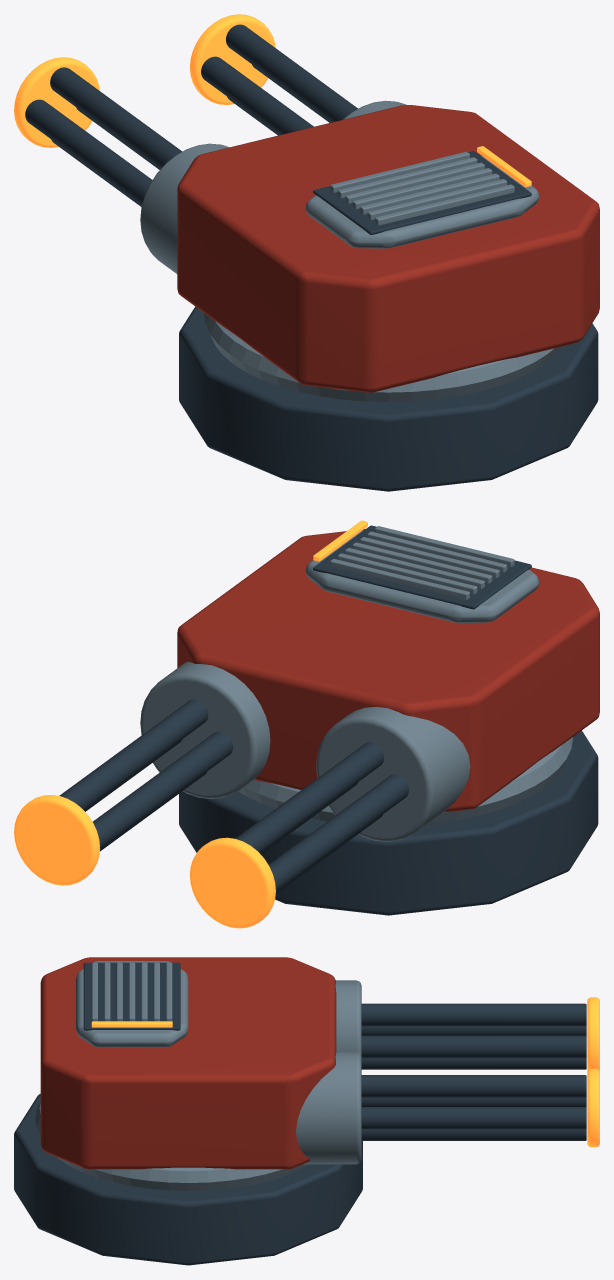
The model's file is SiegeTurret.fbx.
3 renders of one model, top to bottom at view 1: azimuth 30°, elevation 25°; view 2: azimuth 150°, elevation 25°; view 3: azimuth 270°, elevation 25°, orthographic. The views are drawn at different scales.
Visible parts, largest first — view 1: Turret armor.002, Armored rotating base.004, Bearing race.004, Inset service armor.318, Autocannon barrel.018, Autocannon barrel.017, Autocannon barrel.021, Cannon mantle.004, Muzzle cap.004, Muzzle cap.005, Autocannon barrel.022, Recessed heat exchanger.078 (+7 smaller); view 2: Turret armor.002, Armored rotating base.004, Cannon mantle.004, Cannon mantle.005, Muzzle cap.004, Muzzle cap.005, Inset service armor.318, Autocannon barrel.018, Autocannon barrel.022, Autocannon barrel.021, Autocannon barrel.017, Bearing race.004 (+9 smaller); view 3: Turret armor.002, Armored rotating base.004, Cannon mantle.005, Autocannon barrel.017, Autocannon barrel.021, Autocannon barrel.016, Autocannon barrel.020, Recessed heat exchanger.078, Bearing race.004, Inset service armor.318, Autocannon barrel.019, Autocannon barrel.023 (+11 smaller).
Boxes of the visible parts, x1,y1,x2,y2 form: Turret armor.002: [177, 105, 599, 392]; Armored rotating base.004: [179, 306, 598, 491]; Bearing race.004: [204, 313, 560, 402]; Inset service armor.318: [306, 156, 538, 248]; Autocannon barrel.018: [25, 99, 152, 205]; Autocannon barrel.017: [50, 67, 182, 168]; Autocannon barrel.021: [226, 24, 357, 122]; Cannon mantle.004: [140, 143, 229, 273]; Muzzle cap.004: [14, 57, 99, 147]; Muzzle cap.005: [190, 14, 275, 104]; Autocannon barrel.022: [201, 56, 313, 134]; Recessed heat exchanger.078: [313, 151, 531, 234]; Turret armor.002: [177, 529, 599, 812]; Armored rotating base.004: [179, 730, 598, 915]; Cannon mantle.004: [316, 707, 470, 841]; Cannon mantle.005: [140, 661, 270, 798]; Muzzle cap.004: [190, 837, 275, 928]; Muzzle cap.005: [14, 795, 99, 885]; Inset service armor.318: [306, 530, 538, 622]; Autocannon barrel.018: [268, 774, 408, 892]; Autocannon barrel.022: [93, 731, 233, 849]; Autocannon barrel.021: [59, 699, 208, 810]; Autocannon barrel.017: [235, 742, 384, 853]; Bearing race.004: [238, 737, 572, 823]; Turret armor.002: [40, 957, 336, 1169]; Armored rotating base.004: [14, 1094, 362, 1265]; Cannon mantle.005: [296, 1051, 361, 1164]; Autocannon barrel.017: [361, 1003, 586, 1026]; Autocannon barrel.021: [361, 1075, 586, 1097]; Autocannon barrel.016: [361, 1035, 586, 1057]; Autocannon barrel.020: [361, 1107, 586, 1129]; Recessed heat exchanger.078: [83, 962, 180, 1030]; Bearing race.004: [35, 1101, 309, 1190]; Inset service armor.318: [76, 961, 188, 1047]; Autocannon barrel.019: [361, 1057, 586, 1069]; Autocannon barrel.023: [361, 1129, 586, 1140].
Size of the model in its own units: 124 by 80.15 by 208.
